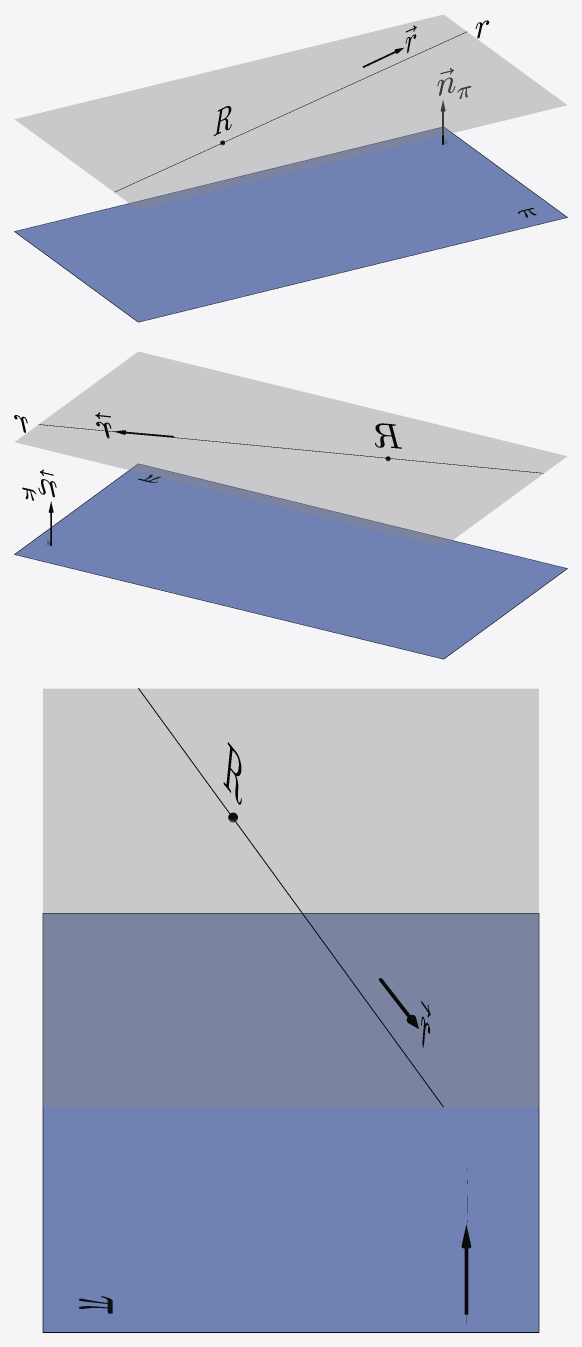
Rendered from r_paralela_pi.glb.
3 views of the same model, one above another, from view 1: azimuth 30°, elevation 25°; view 2: azimuth 150°, elevation 25°; view 3: azimuth 270°, elevation 25° (orthographic). The views are drawn at different scales.
Visible parts, largest first — view 1: Plano, Plane, segmento; view 2: Plano, Plane, segmento; view 3: Plano, Plane, segmento.
Part boxes in pixels (box(x1,y1,x2,y2)): Plano: box(14, 127, 567, 322); Plane: box(15, 15, 566, 209); segmento: box(115, 31, 467, 191); Plano: box(14, 463, 567, 659); Plane: box(15, 352, 566, 546); segmento: box(38, 424, 543, 473); Plano: box(42, 913, 539, 1332); Plane: box(43, 689, 538, 1107); segmento: box(138, 688, 443, 1107).
Bounding box in the file's own units: 4.22 × 1.31 × 2.
